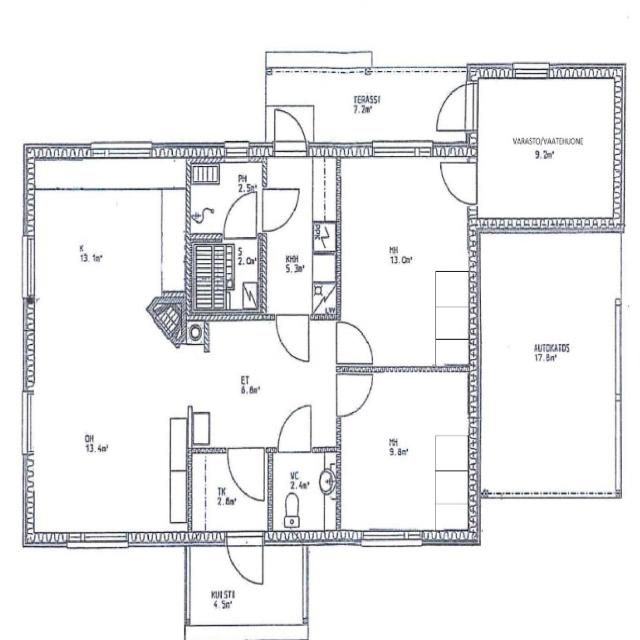door: (227, 530, 263, 591), (431, 85, 478, 130), (228, 447, 264, 500), (275, 100, 307, 158), (434, 163, 478, 204), (225, 192, 256, 242), (276, 314, 308, 362), (278, 405, 310, 453), (336, 322, 373, 363), (336, 376, 373, 416), (262, 190, 299, 230)
